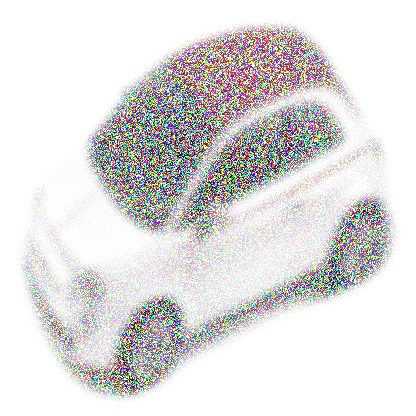Vehicle: (24, 26, 388, 388)
